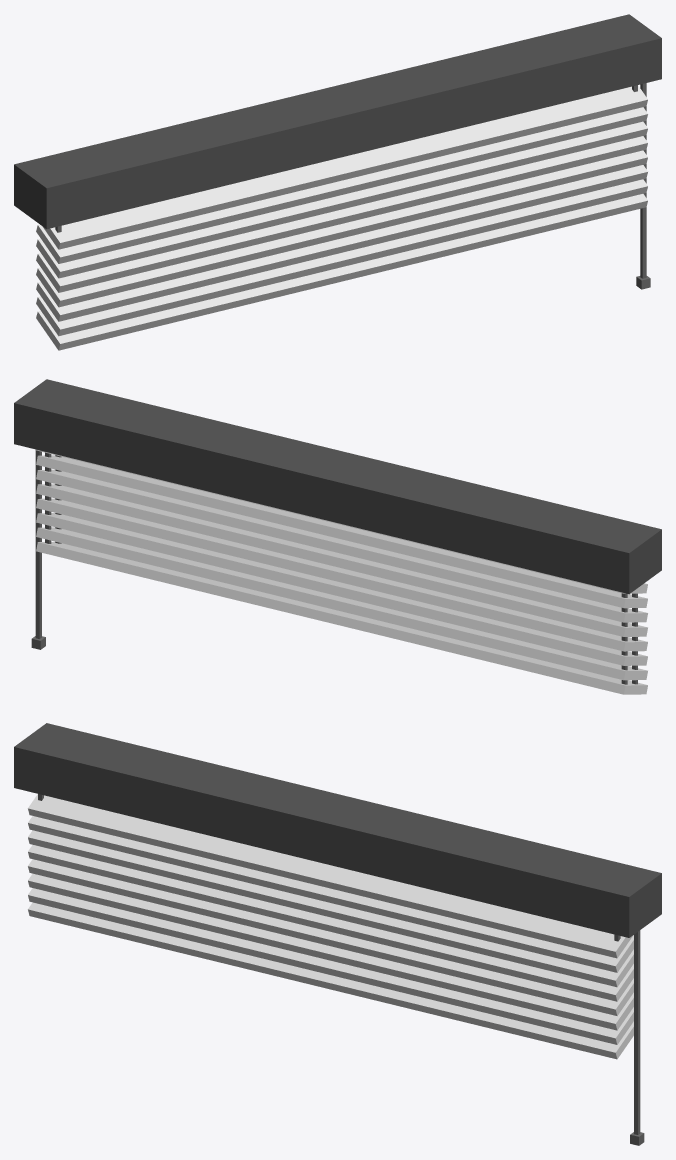
File: Curtains14_C1.fbx
3 views of the same model, one above another, from view 1: azimuth 30°, elevation 25°; view 2: azimuth 150°, elevation 25°; view 3: azimuth 330°, elevation 25° (orthographic).
Parts seen in each view (by area): view 1: Curtains14_C1; view 2: Curtains14_C1; view 3: Curtains14_C1.
Boxes of the visible parts, x1,y1,x2,y2 form: Curtains14_C1: (14,14,661,350); Curtains14_C1: (14,379,661,694); Curtains14_C1: (14,723,661,1145).
Bounding box in the file's own units: 138 × 54.95 × 12.67.
